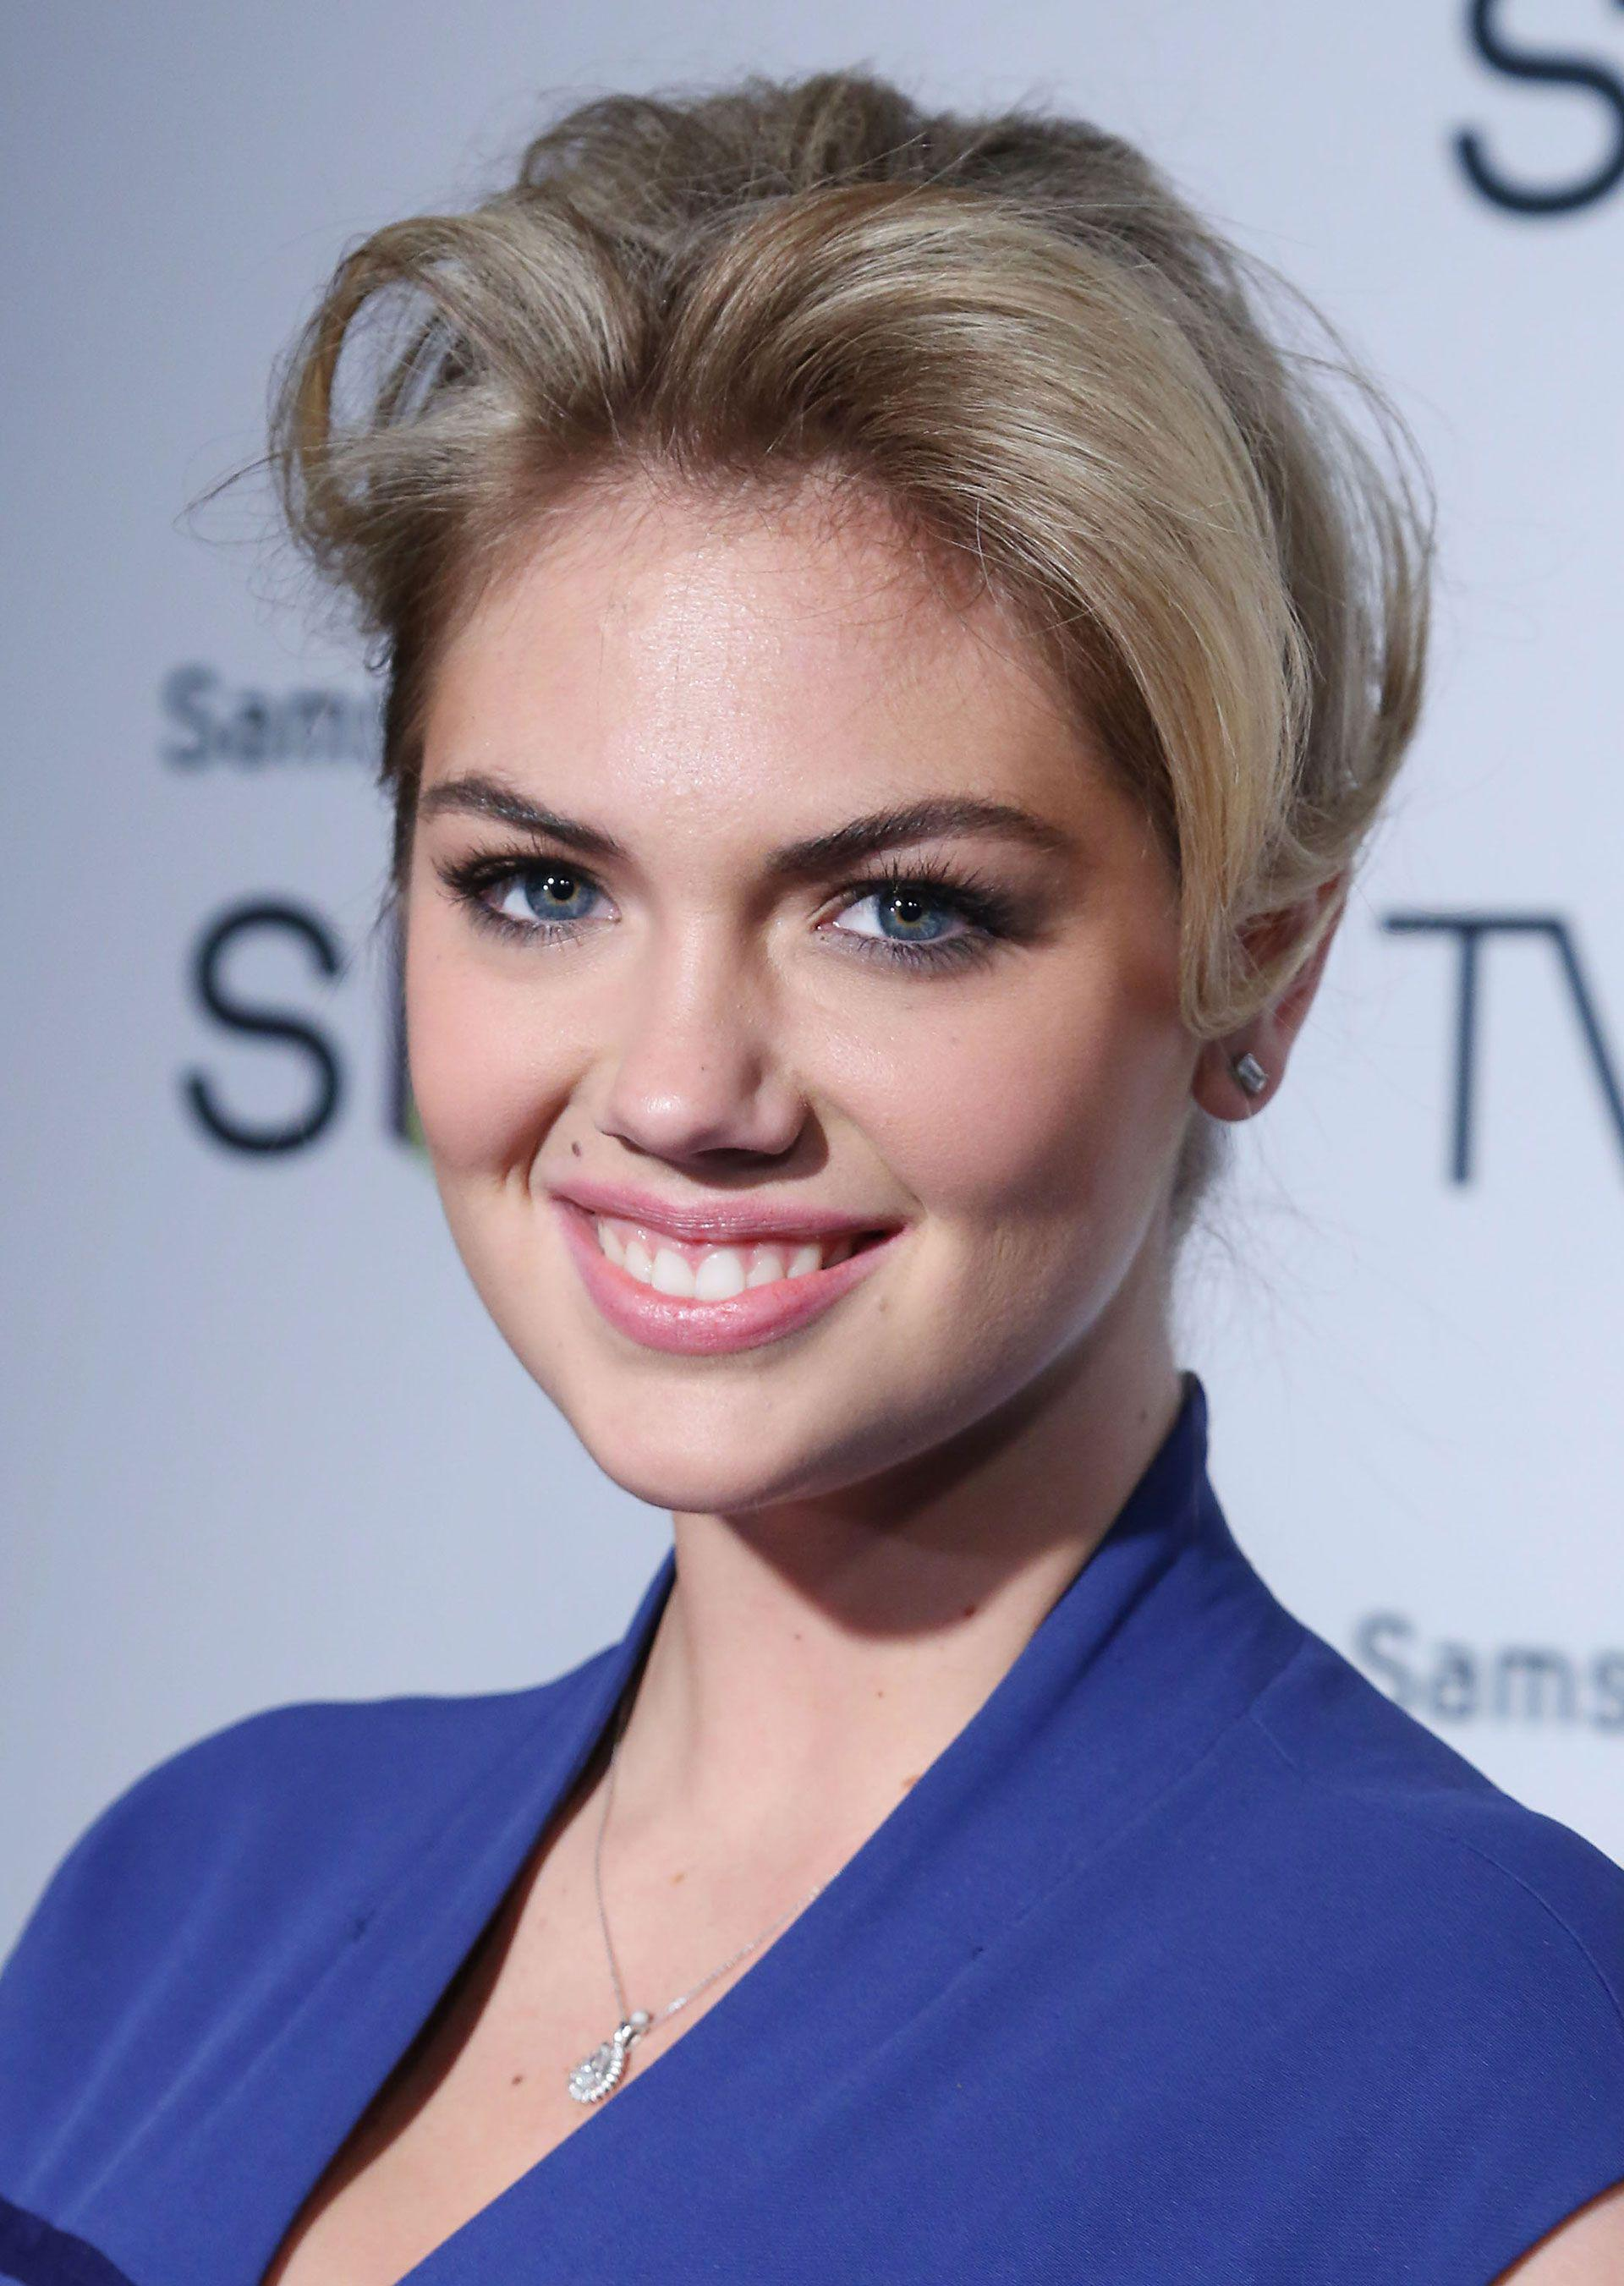Sober: (417, 504, 1102, 1430)
